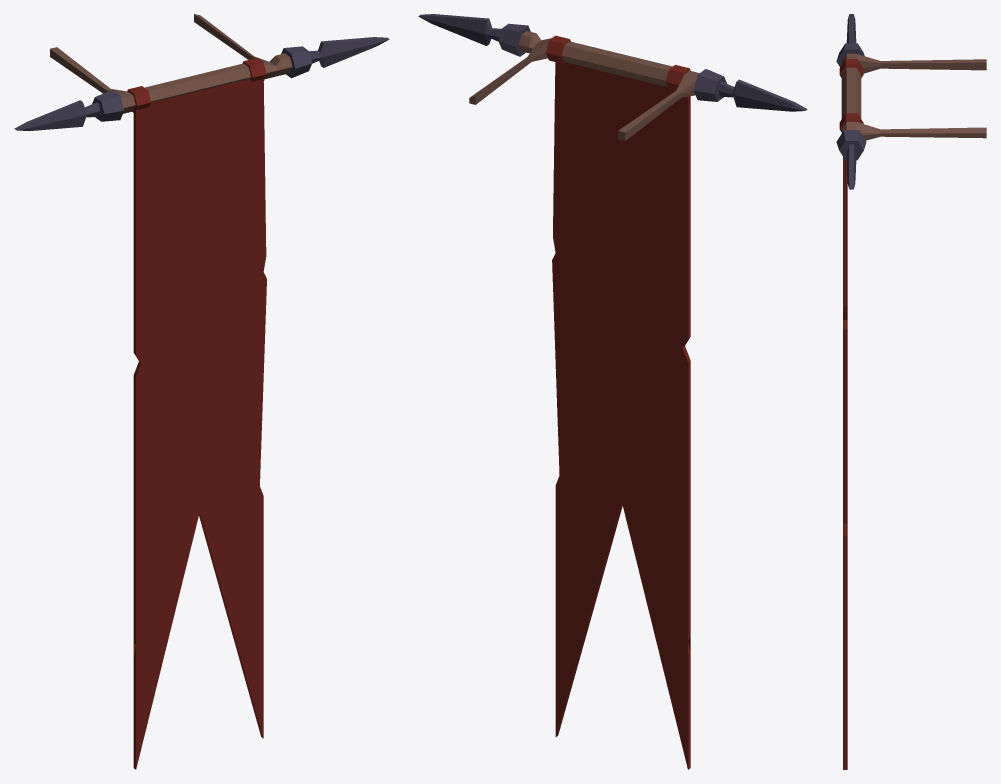
File: Banner_wall.glb
3 views of the same model, side by side, from view 1: azimuth 30°, elevation 25°; view 2: azimuth 150°, elevation 25°; view 3: azimuth 270°, elevation 25° (orthographic). The views are drawn at different scales.
Parts seen in each view (by area): view 1: Banner_wall; view 2: Banner_wall; view 3: Banner_wall.
Boxes of the visible parts, <box> form: Banner_wall: <box>14,14,389,769</box>; Banner_wall: <box>418,14,807,769</box>; Banner_wall: <box>836,14,986,769</box>.
Size of the model in its own units: 0.6561 by 1.14 by 0.2372.
